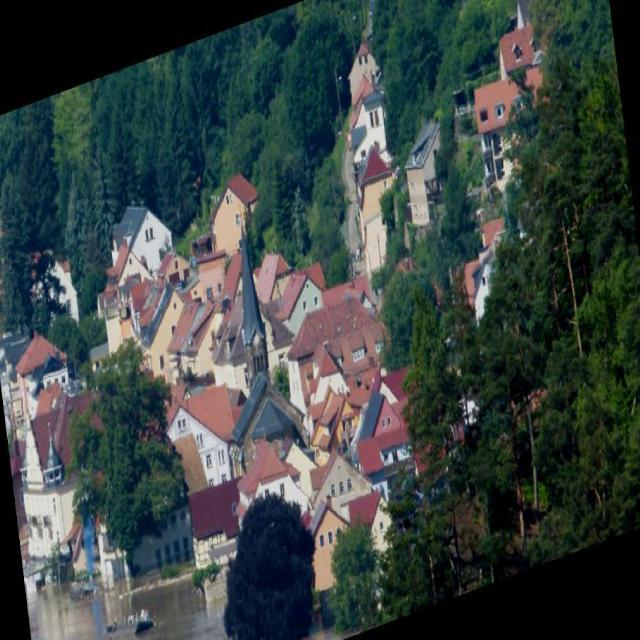flood: (25, 492, 248, 639)
